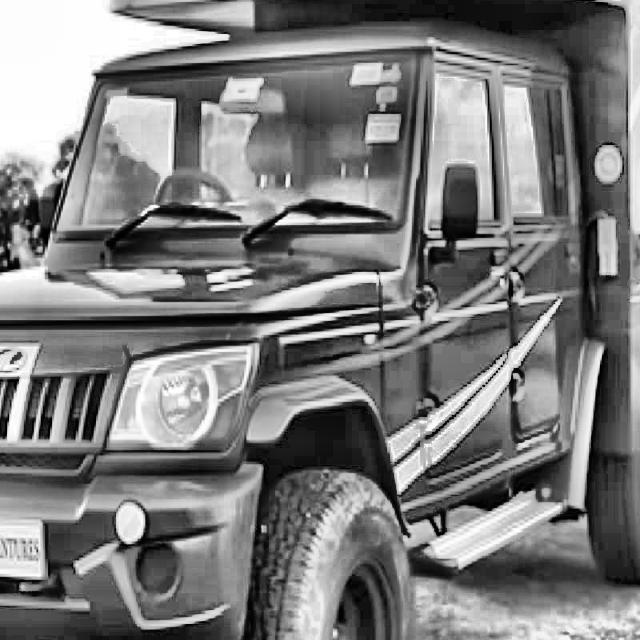light_vehicle: (0, 62, 523, 640)
